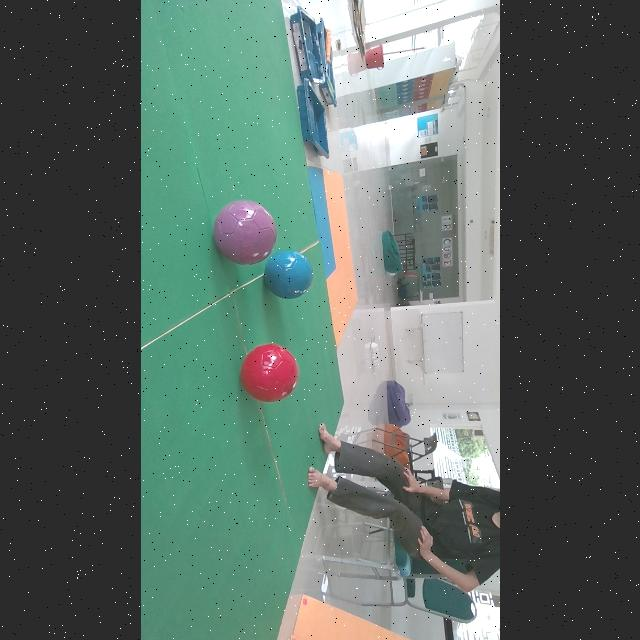B: (264, 250, 313, 300)
P: (214, 200, 277, 265)
R: (240, 344, 299, 402)
